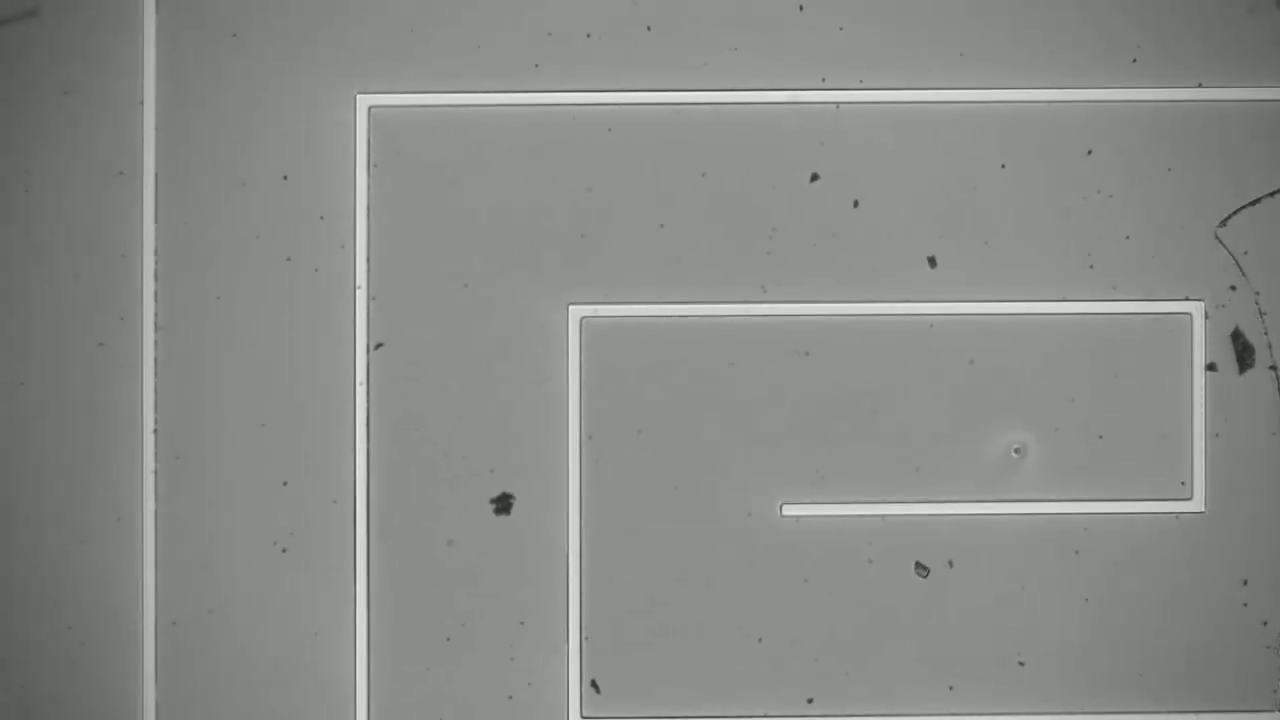scratch: (1210, 229, 1280, 370)
